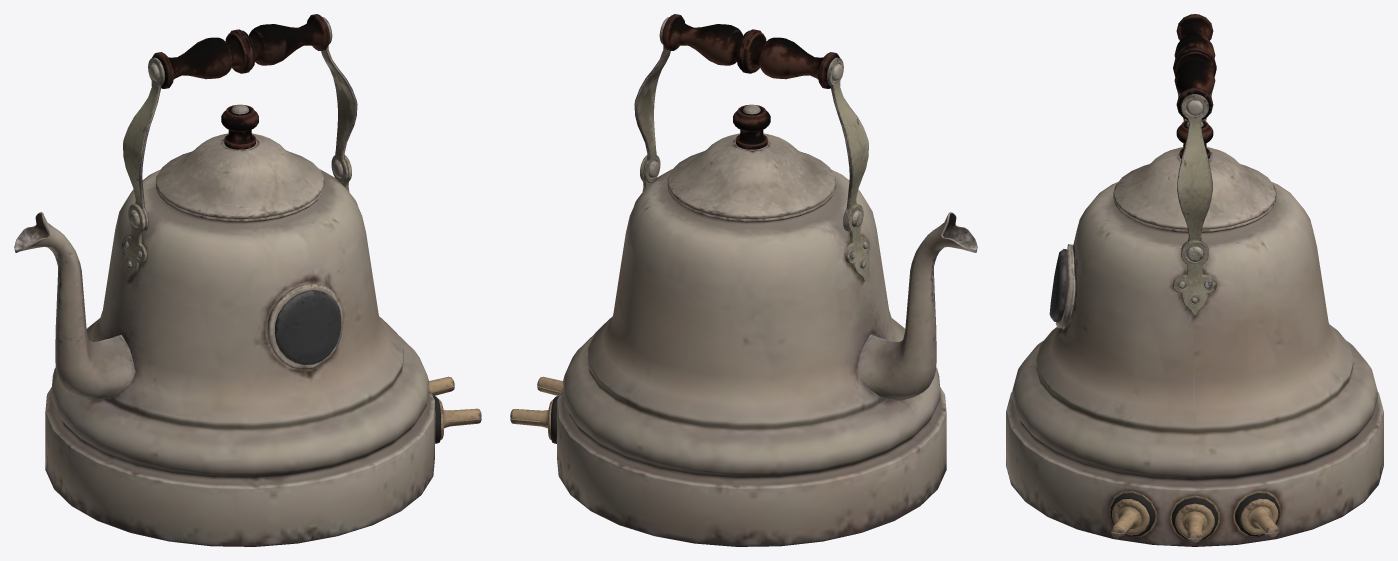
Rendered from vintage_electric_kettle.glb.
3 views of the same model, side by side, from view 1: azimuth 30°, elevation 25°; view 2: azimuth 150°, elevation 25°; view 3: azimuth 270°, elevation 25° (orthographic). The views are drawn at different scales.
Visible parts, largest first — view 1: vintage_electric_kettle; view 2: vintage_electric_kettle; view 3: vintage_electric_kettle.
Boxes of the visible parts, left/top/right/bottom form: vintage_electric_kettle: left=14, top=14, right=481, bottom=546; vintage_electric_kettle: left=510, top=14, right=977, bottom=546; vintage_electric_kettle: left=1006, top=14, right=1383, bottom=546.
Size of the model in its own units: 0.3209 by 0.3048 by 0.2486.
2 materials, 2 textured.
